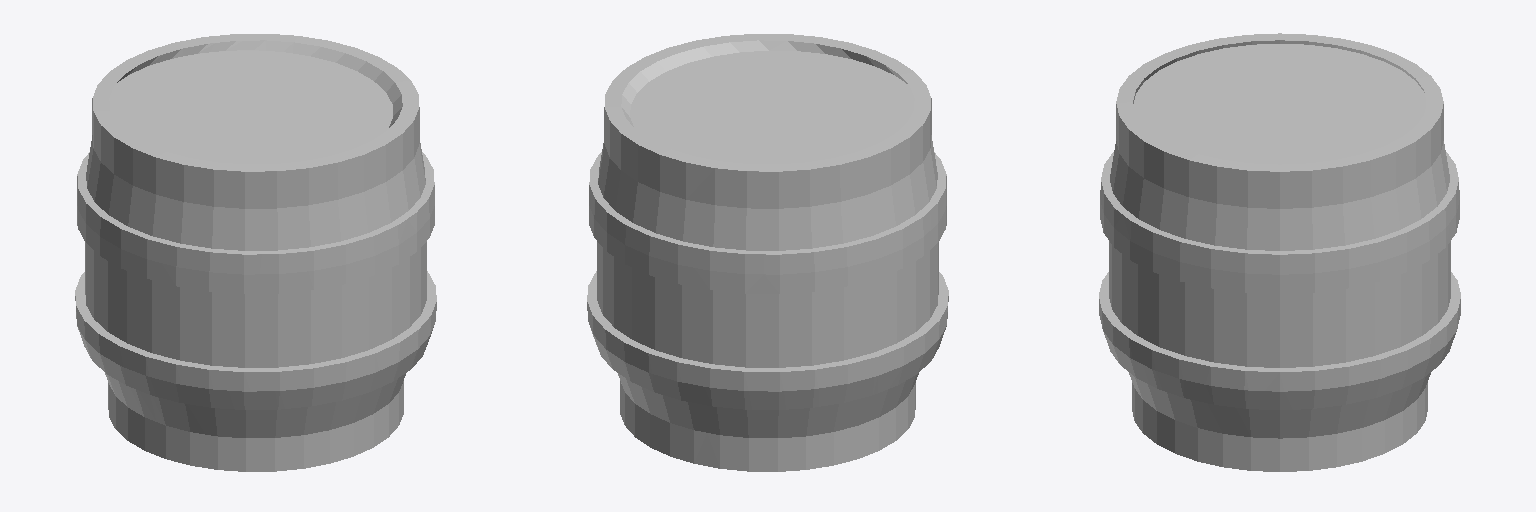
The model's file is barrel.obj.
3 renders of one model, left to right at view 1: azimuth 30°, elevation 25°; view 2: azimuth 150°, elevation 25°; view 3: azimuth 270°, elevation 25°, orthographic.
Visible parts, largest first — view 1: Cylinder; view 2: Cylinder; view 3: Cylinder.
Part boxes in pixels (x1,y1,x2,y2): Cylinder: (75,34,436,471); Cylinder: (587,34,948,471); Cylinder: (1099,33,1460,471).
Bounding box in the file's own units: 2.12 × 1.98 × 2.12.